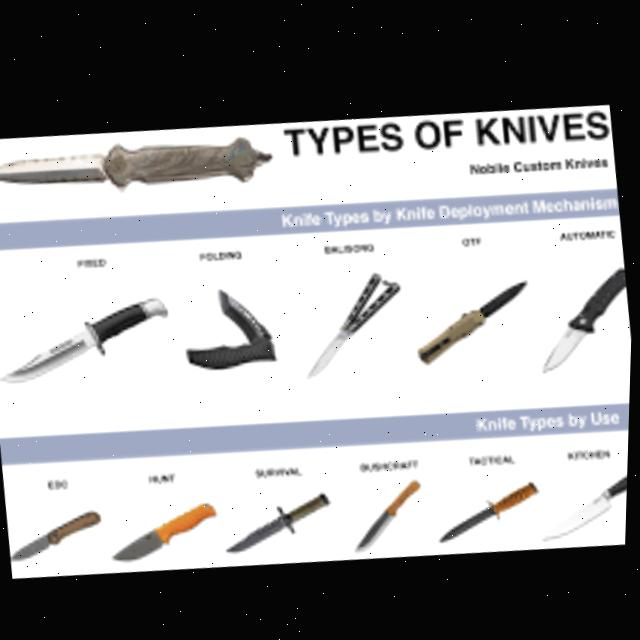Knife: (0, 115, 274, 211), (0, 284, 176, 392), (294, 259, 411, 377), (530, 250, 635, 367), (409, 265, 535, 362), (178, 276, 280, 373), (108, 492, 224, 565), (221, 481, 336, 554), (434, 466, 545, 538), (536, 452, 630, 536), (349, 467, 430, 548), (9, 503, 108, 563)
